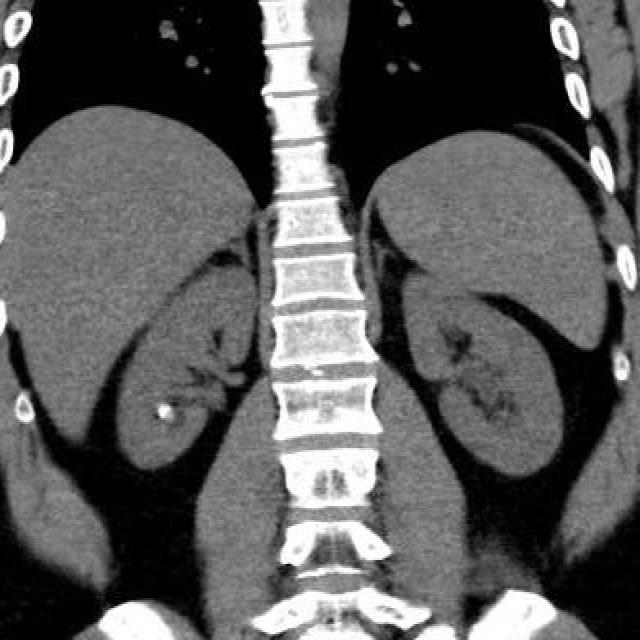Tas_Var: (156, 404, 171, 420)
